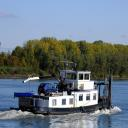tugboat: (10, 61, 116, 118)
